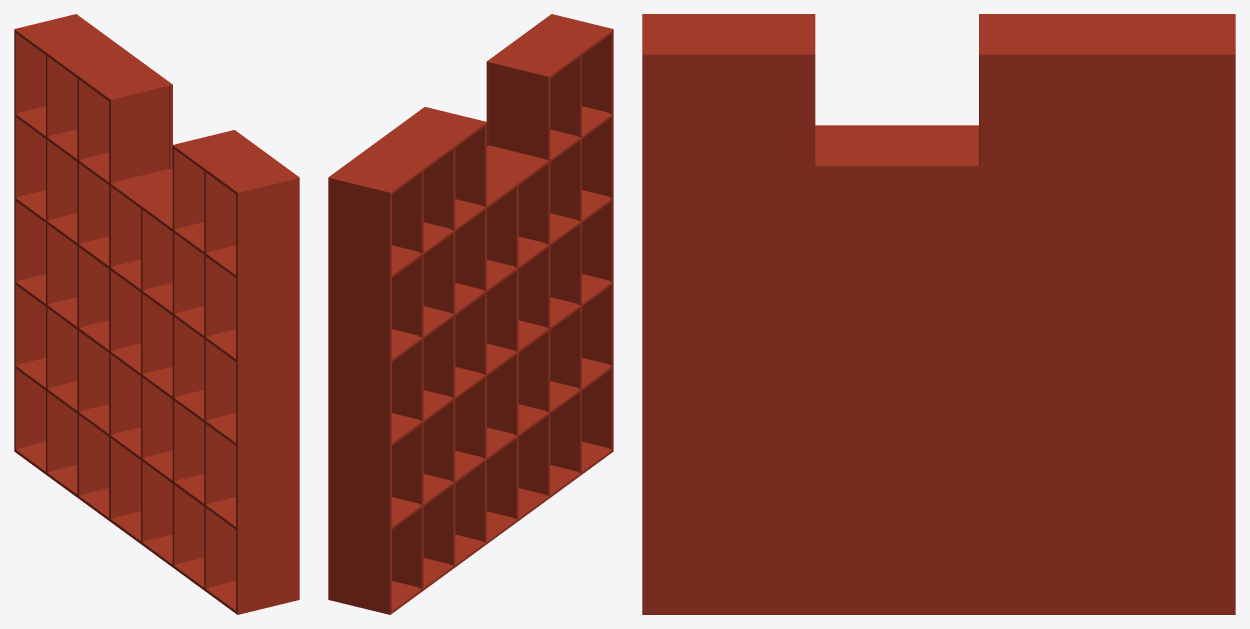
File: gochiVodka.gltf
3 renders of one model, left to right at view 1: azimuth 30°, elevation 25°; view 2: azimuth 150°, elevation 25°; view 3: azimuth 270°, elevation 25°, orthographic. The views are drawn at different scales.
Parts seen in each view (by area): view 1: gochiVodka; view 2: gochiVodka; view 3: gochiVodka.
Boxes of the visible parts, left/top/right/bottom form: gochiVodka: left=14, top=14, right=299, bottom=614; gochiVodka: left=328, top=14, right=613, bottom=614; gochiVodka: left=642, top=14, right=1235, bottom=614.
Bounding box in the file's own units: 0.21 × 1.36 × 1.3.
